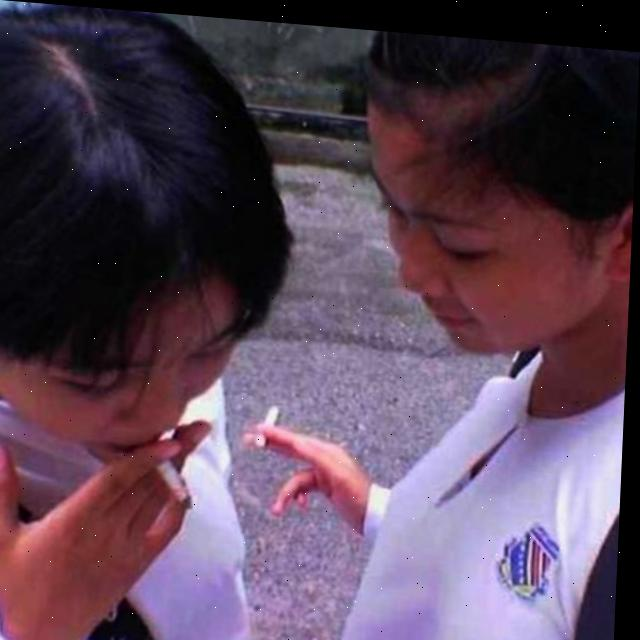cigarette: (158, 457, 197, 500), (256, 400, 284, 447)
